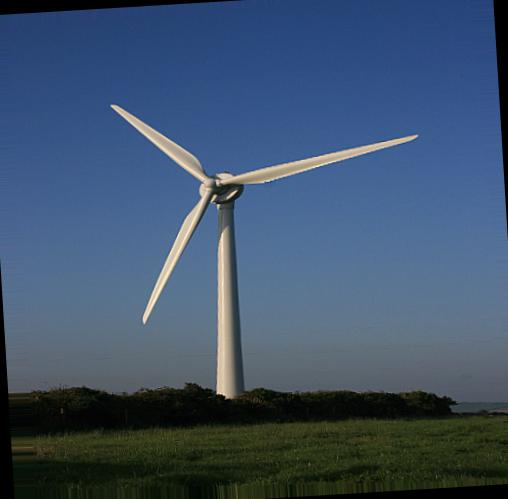wind turbine: (108, 101, 419, 401)
